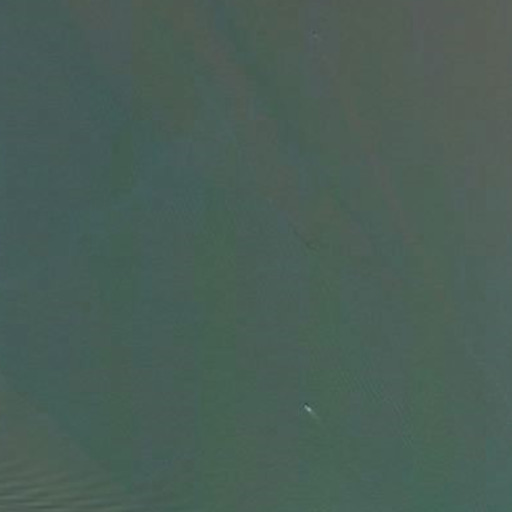ship: (298, 401, 313, 416)
